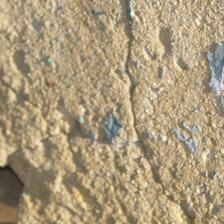Crack: (95, 0, 172, 185), (29, 44, 105, 155)
